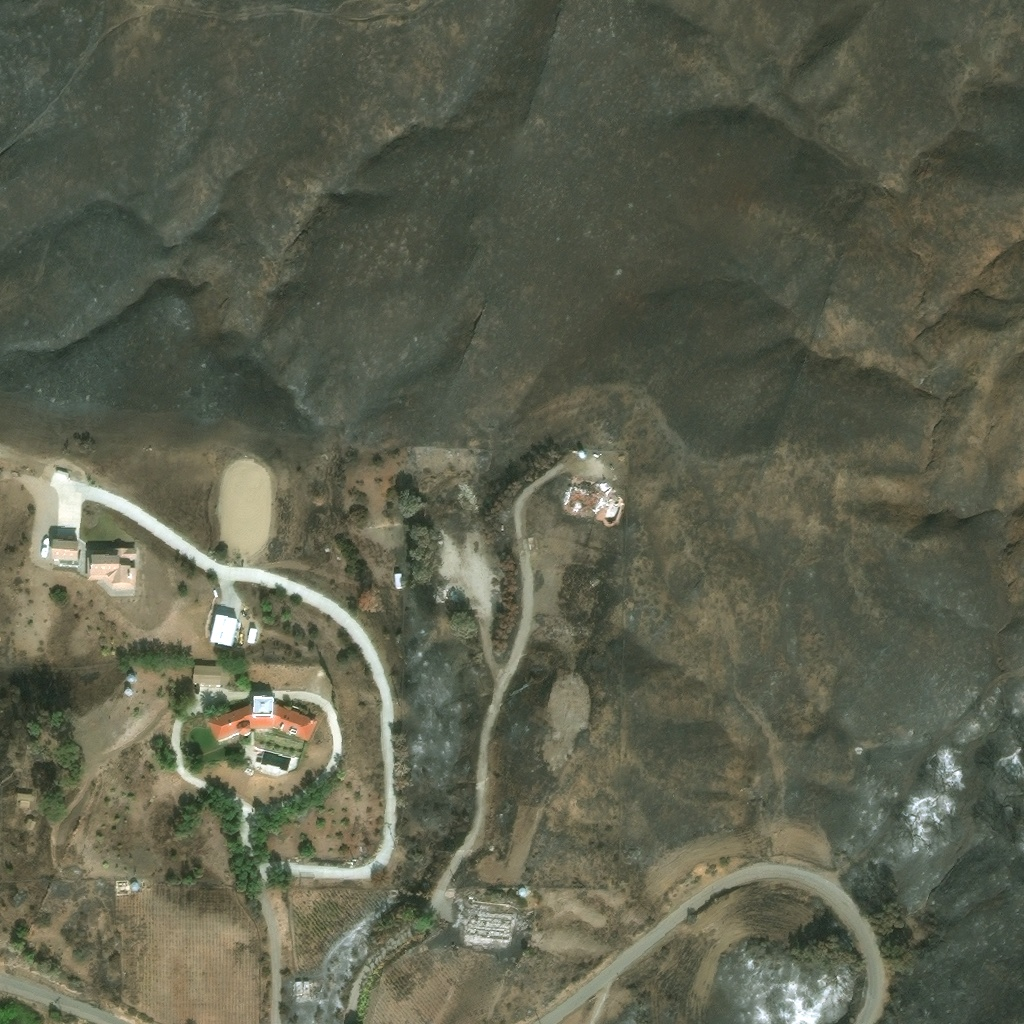0 no-damage: (206, 695, 318, 744), (86, 546, 136, 589), (209, 612, 238, 646), (46, 537, 78, 563), (192, 664, 220, 684), (16, 791, 34, 806), (247, 626, 259, 643), (393, 572, 403, 588), (23, 816, 36, 828), (54, 468, 68, 479), (128, 881, 139, 891), (517, 886, 527, 897), (123, 686, 132, 696), (126, 673, 135, 682), (578, 448, 587, 457)
3 destroyed: (560, 478, 625, 527), (450, 902, 513, 947), (294, 977, 325, 997), (443, 585, 453, 597), (435, 531, 442, 544), (855, 747, 863, 755), (520, 918, 529, 925)
